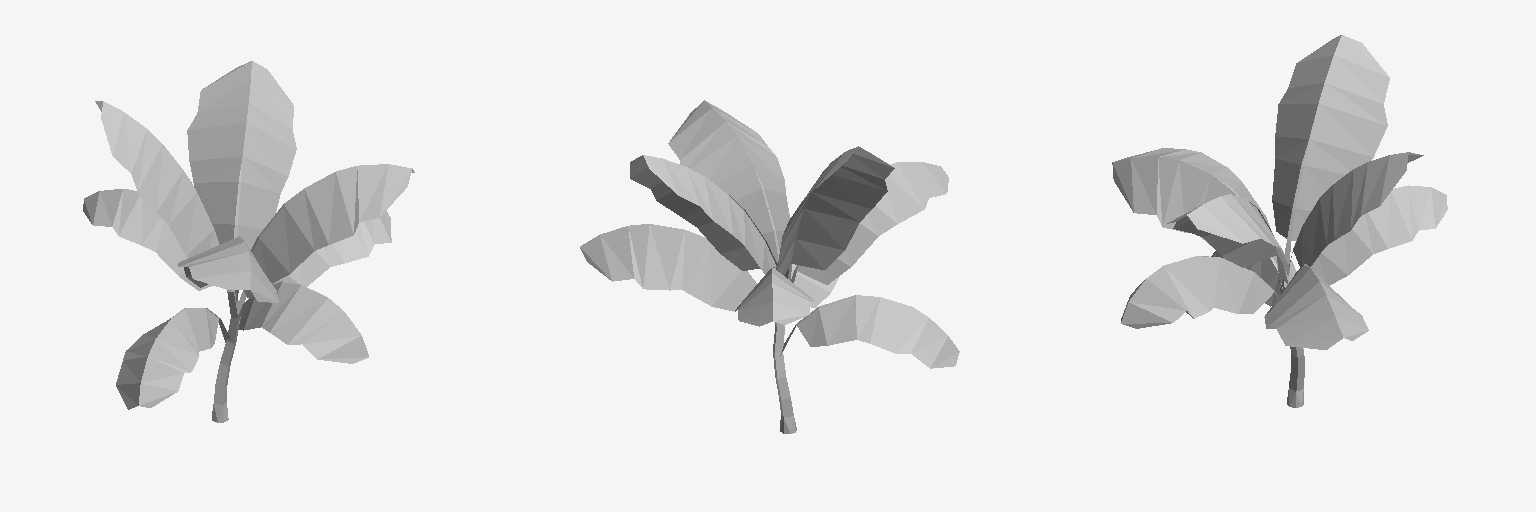
File: banana plant 01_lod3.obj
3 renders of one model, left to right at view 1: azimuth 30°, elevation 25°; view 2: azimuth 150°, elevation 25°; view 3: azimuth 270°, elevation 25°, orthographic.
Visible parts, largest first — view 1: tree; view 2: tree; view 3: tree.
Boxes of the visible parts, box(x1,y1,x2,y2) form: tree: box(83, 61, 414, 422); tree: box(580, 100, 959, 433); tree: box(1112, 35, 1447, 407).
Bounding box in the file's own units: 277 × 272 × 255.